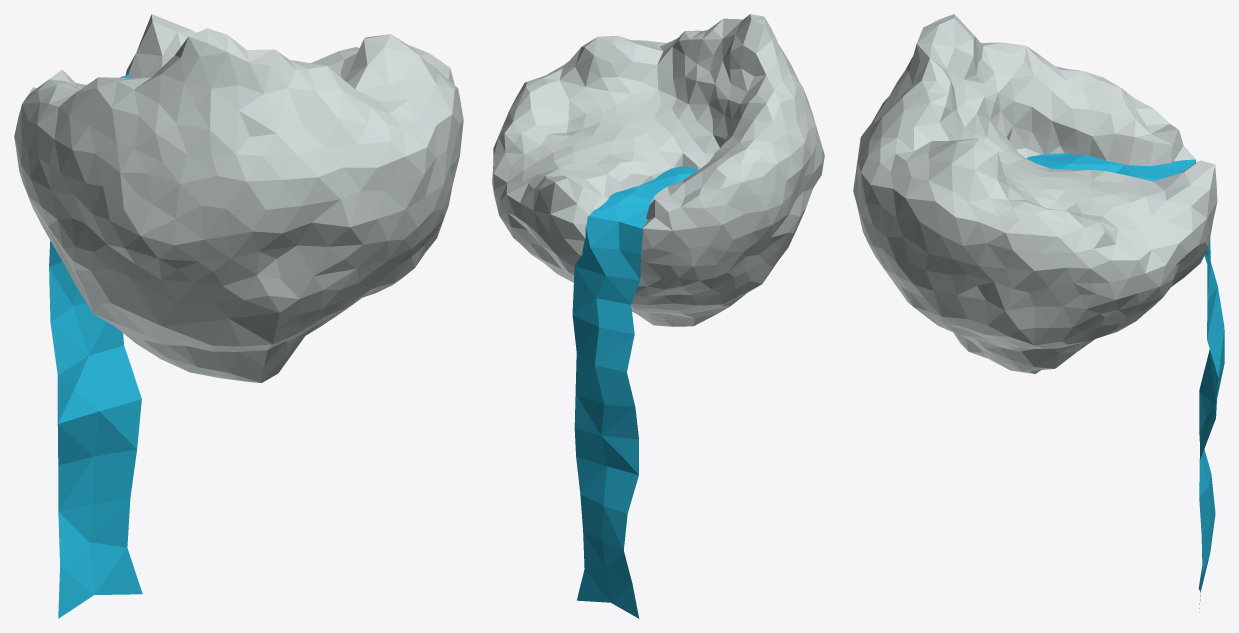
Rendered from sky island.fbx.
The picture shows the model from 3 angles, left to right: view 1: azimuth 30°, elevation 25°; view 2: azimuth 150°, elevation 25°; view 3: azimuth 270°, elevation 25°; orthographic projection. The views are drawn at different scales.
Visible parts, largest first — view 1: Icosphere, Plane; view 2: Icosphere, Plane; view 3: Icosphere, Plane.
Boxes of the visible parts, x1=… form: Icosphere: x1=14, y1=14, x2=463, y2=382; Plane: x1=49, y1=75, x2=142, y2=618; Icosphere: x1=492, y1=14, x2=824, y2=326; Plane: x1=572, y1=166, x2=698, y2=618; Icosphere: x1=853, y1=14, x2=1217, y2=373; Plane: x1=1027, y1=153, x2=1224, y2=612.
Bounding box in the file's own units: 1977 × 3434 × 2028.
